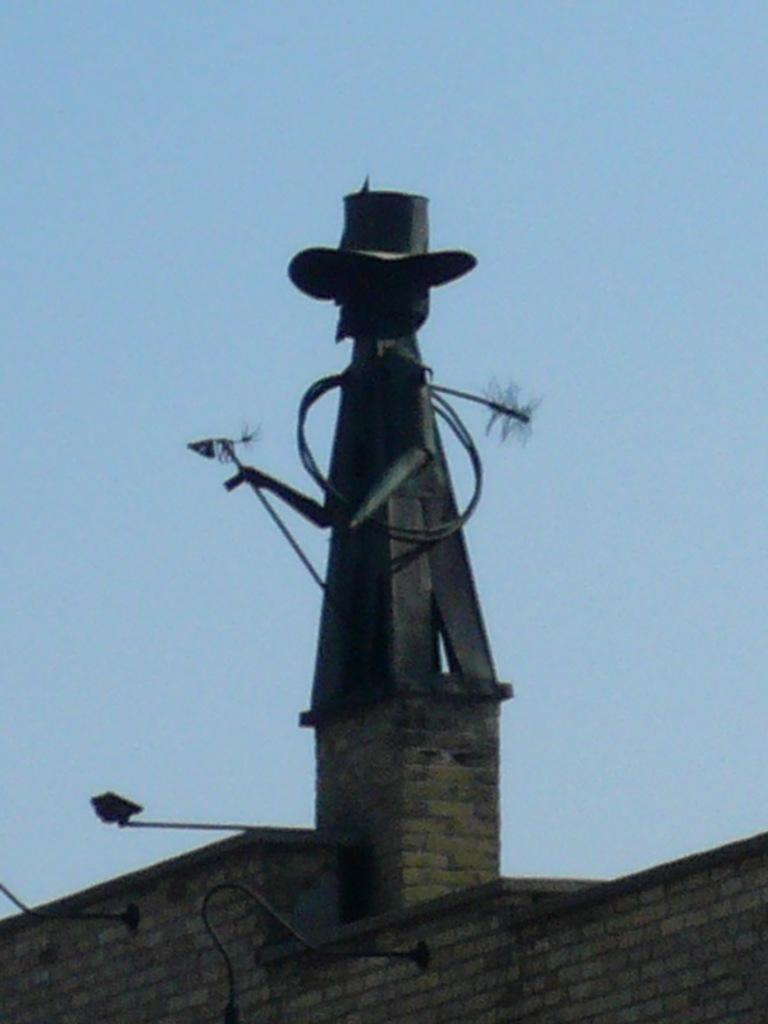Hat: (281, 172, 478, 304)
